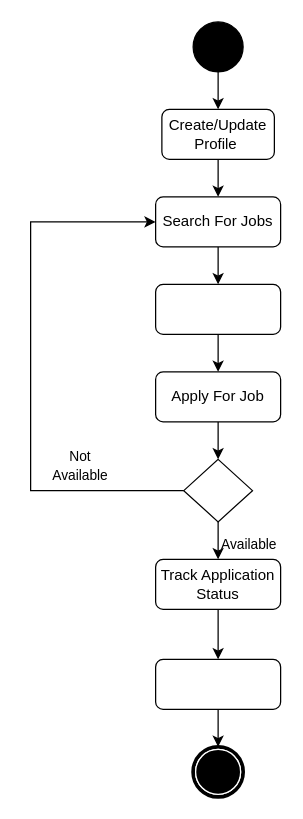
Some shapes in this 303 by 819 pixel diagram are drawn without their labels. The box of each missing label's shape, as (x1, y1, x2, y2) in pixels:
Recieve Notification: (154, 658, 281, 709)
Select Jobs: (154, 283, 281, 334)
